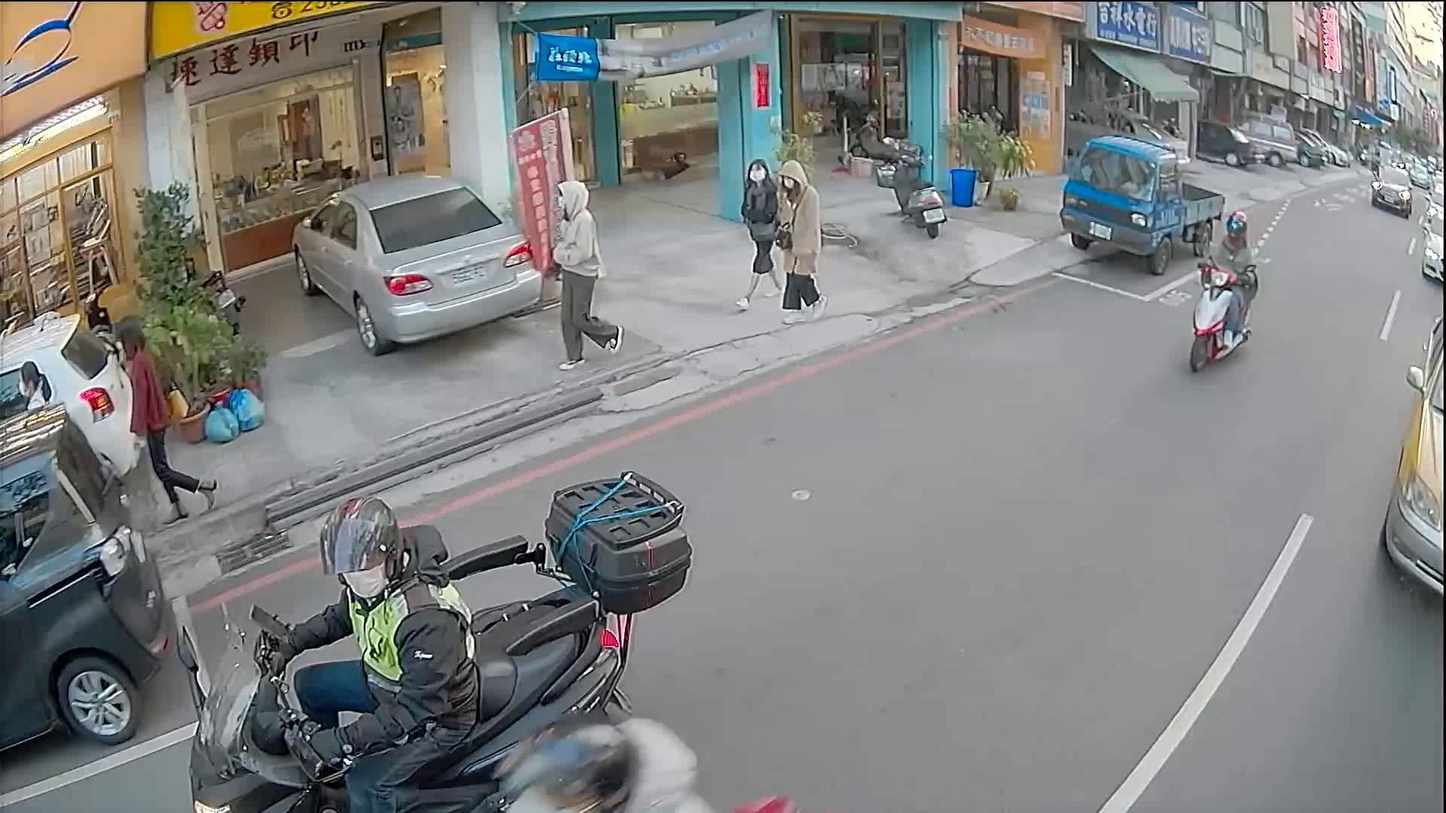person: (242, 495, 476, 812), (102, 302, 219, 521), (445, 714, 707, 811), (542, 172, 620, 367), (729, 156, 792, 314), (1190, 207, 1256, 354), (770, 159, 824, 317), (4, 355, 63, 415)
